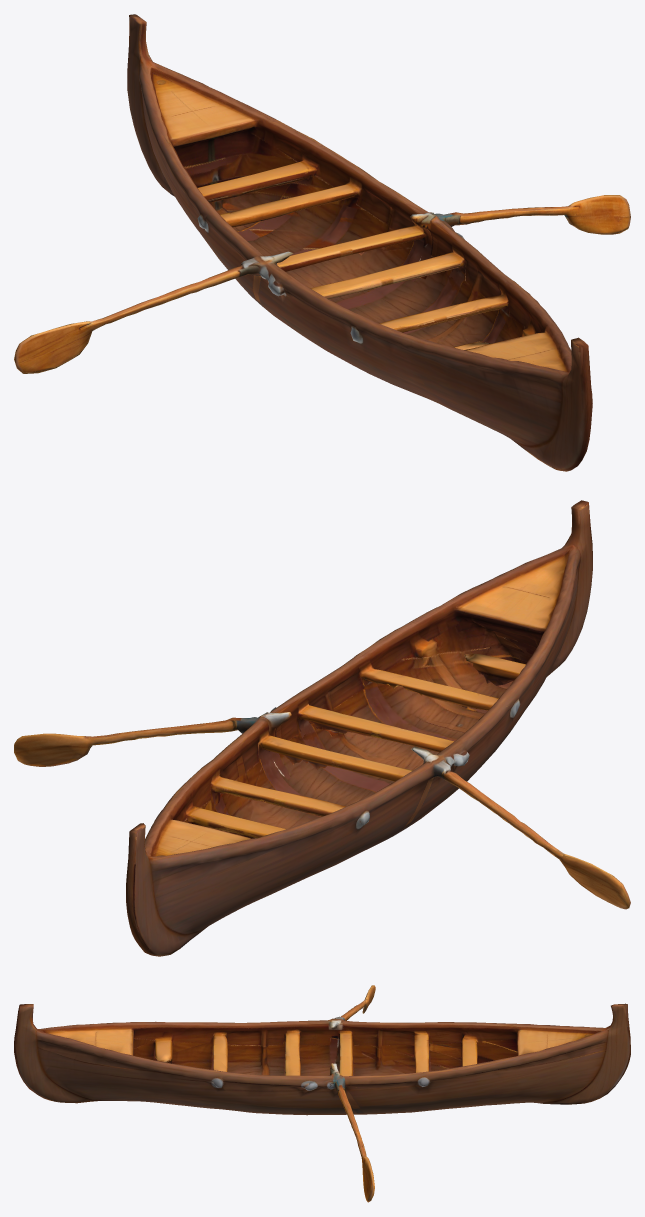
Rendered from Stylized_boat_made_wi_0421122701_texture.glb.
The picture shows the model from 3 angles, top to bottom: view 1: azimuth 30°, elevation 25°; view 2: azimuth 150°, elevation 25°; view 3: azimuth 270°, elevation 25°; orthographic projection. The views are drawn at different scales.
Size of the model in its own units: 1.54 by 0.3551 by 2.
1 material, 1 textured.
